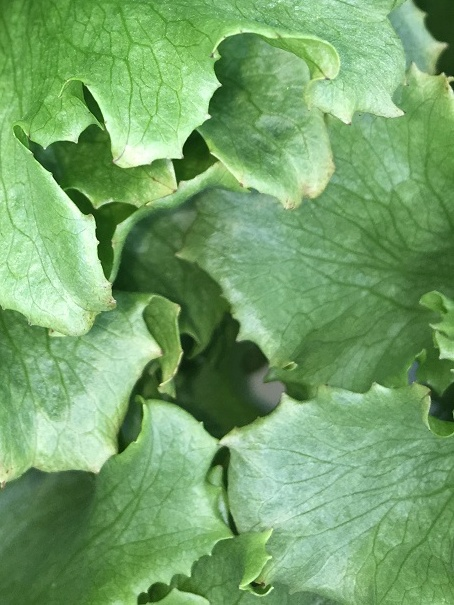tipburn: (1, 462, 15, 492), (437, 70, 453, 95), (281, 197, 303, 215), (103, 294, 120, 312), (314, 380, 333, 396), (324, 161, 340, 179), (44, 323, 62, 339), (255, 577, 273, 592), (106, 234, 121, 251), (206, 50, 223, 64), (236, 176, 250, 192), (22, 128, 36, 144), (318, 71, 334, 85), (155, 380, 169, 395), (171, 300, 185, 315), (167, 184, 182, 198), (400, 77, 414, 92), (154, 347, 168, 361), (109, 154, 124, 167), (343, 117, 356, 131), (264, 524, 277, 538), (273, 31, 286, 44), (141, 199, 155, 211), (201, 110, 213, 124), (99, 117, 112, 129)
